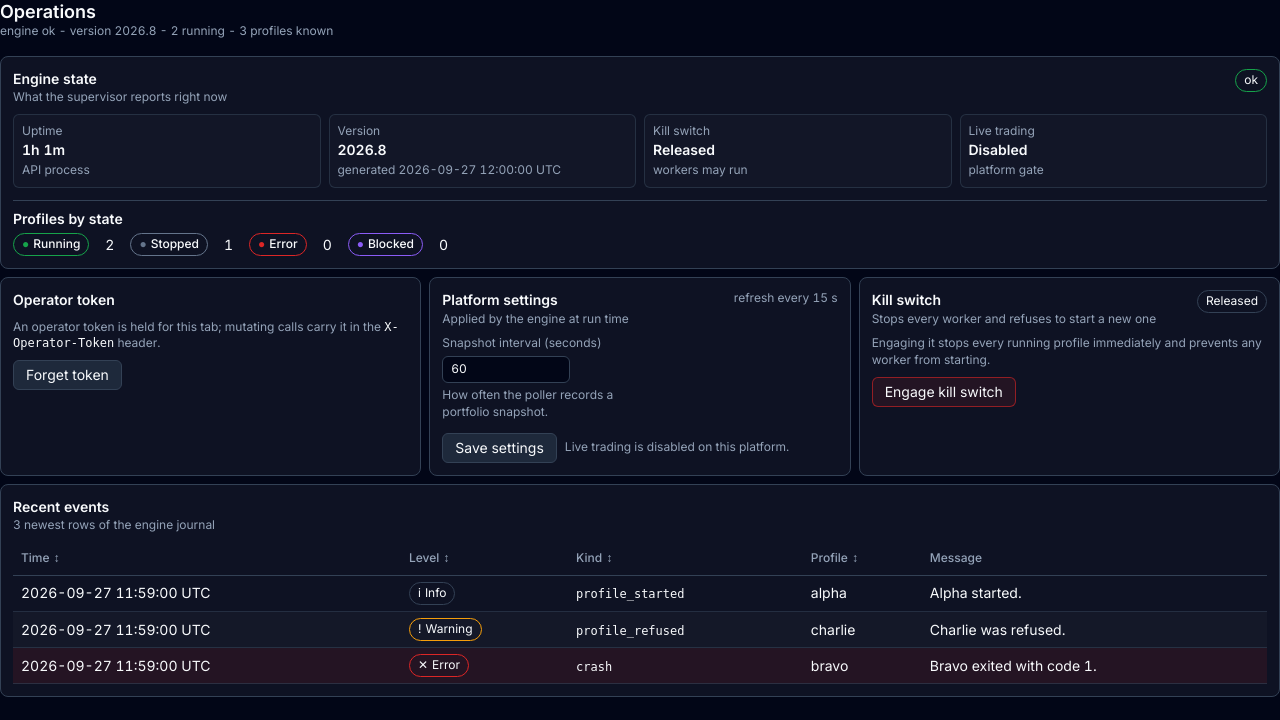
OperationsPage › posts the engagement and reports the position of the switch
Click the button "Engage kill switch": click(944, 392) [872,377,1016,407]
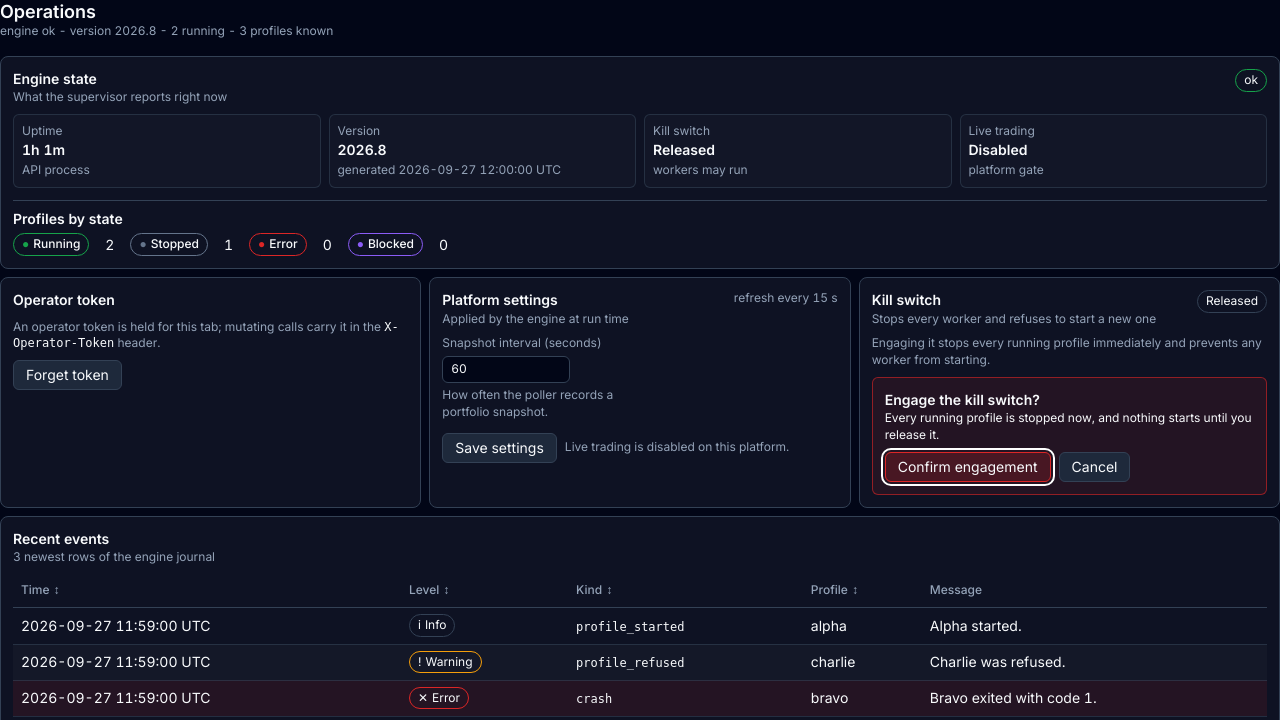
Click the button "Confirm engagement": click(968, 467) [885,452,1051,482]
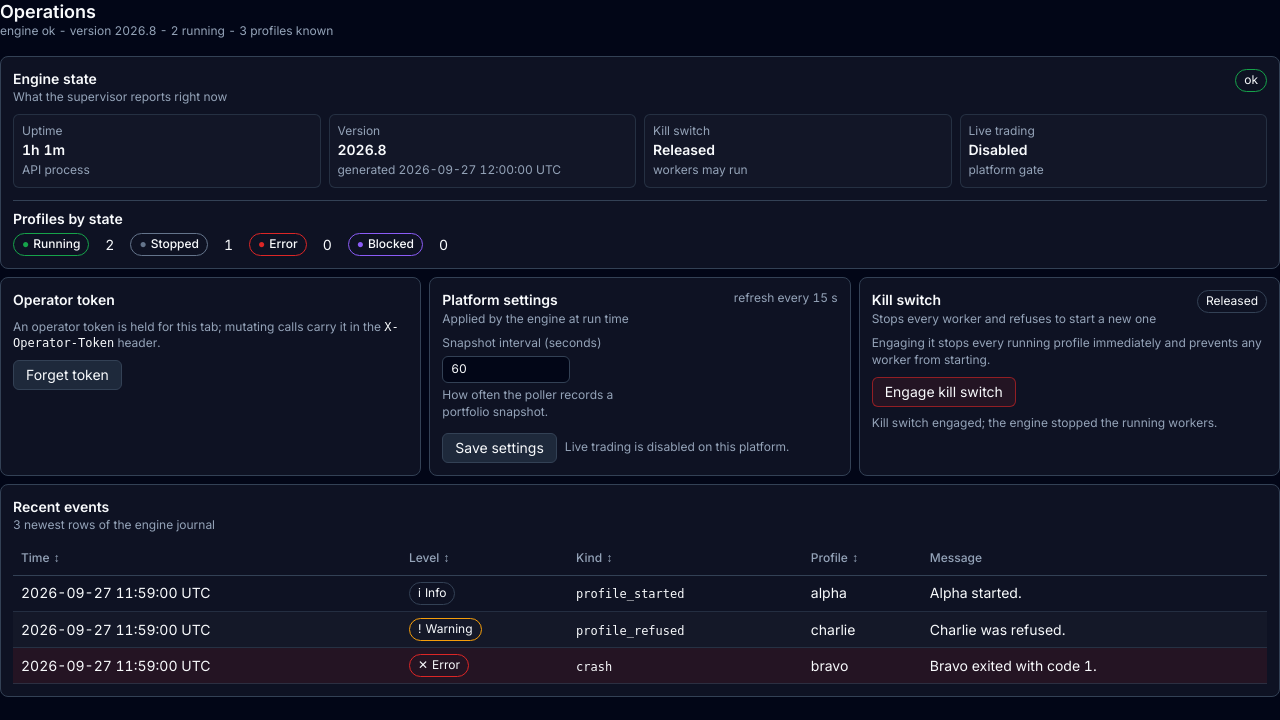
Result: the text "Kill switch engaged; the engine stopped the running workers." is shown at [872,415,1267,432]
